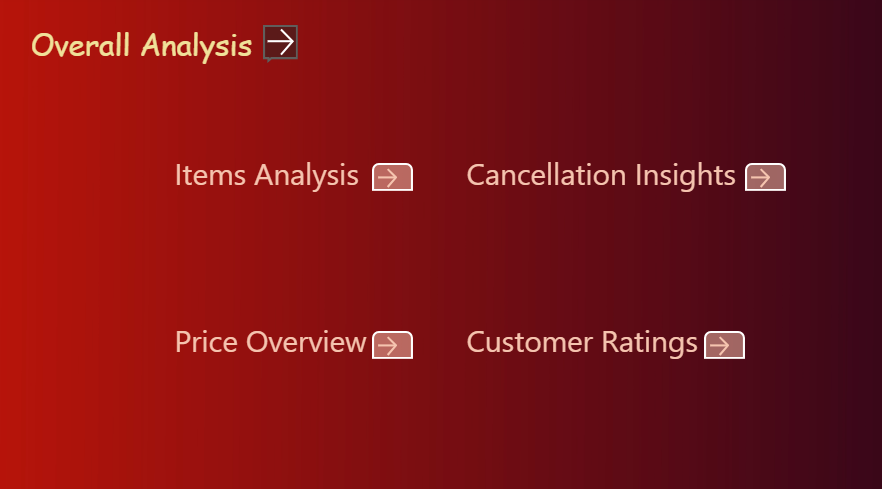

The dashboard page shown, as its layout file describes it:
{"tool":"powerbi","page":{"name":"Overall Page","canvas":[1280,720],"ordinal":1},"visuals":[{"type":"textbox","box":[252,221.8,279.4,77.8],"z":0},{"type":"textbox","box":[252,462.2,301,79.2],"z":1000},{"type":"textbox","box":[672.5,221.8,436.3,87.8],"z":2000},{"type":"textbox","box":[672.5,462.2,362.9,89.3],"z":3000},{"type":"textbox","box":[44.6,34.6,390.2,69.1],"z":4000},{"type":"actionButton","box":[541.4,240.5,59,40.3],"z":5000},{"type":"actionButton","box":[1078.6,240.5,59,40.3],"z":6000},{"type":"actionButton","box":[541.4,482.4,59,40.3],"z":7000},{"type":"actionButton","box":[1019.5,482.4,59,40.3],"z":8000},{"type":"actionButton","box":[384.5,41.8,50.4,54.7],"z":9000}]}

Visuals, with their boxes in screenshot pixels (x1, y1, x2, y2), scaled from the page's 1280x720 canvas onto the 882x489 screenshot:
textbox: (174, 151, 366, 203)
textbox: (174, 314, 381, 368)
textbox: (463, 151, 764, 210)
textbox: (463, 314, 713, 375)
textbox: (31, 23, 300, 70)
actionButton: (373, 163, 414, 191)
actionButton: (743, 163, 784, 191)
actionButton: (373, 328, 414, 355)
actionButton: (702, 328, 743, 355)
actionButton: (265, 28, 300, 66)
